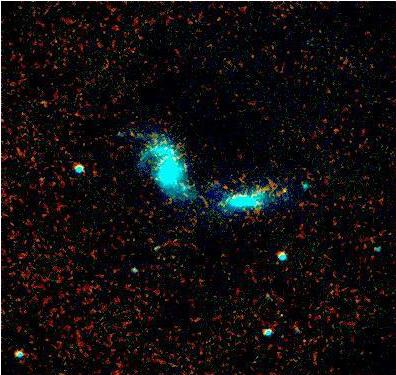star: (269, 175, 299, 205)
